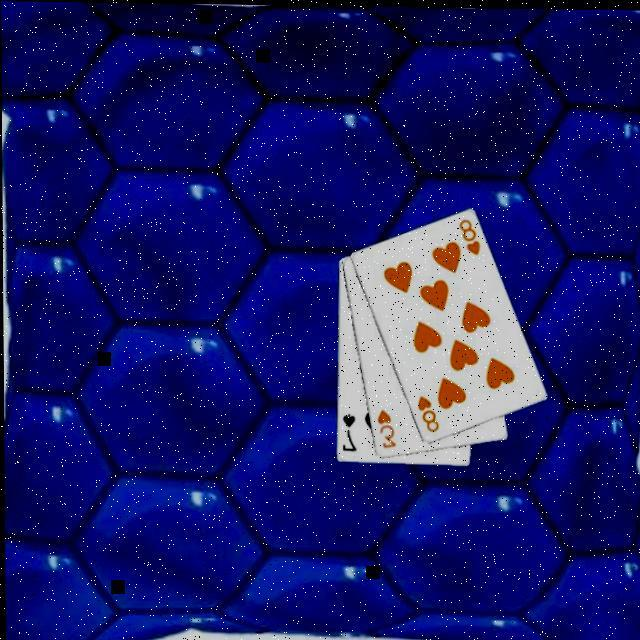3H: (372, 407, 396, 451)
7S: (336, 410, 356, 454)
8H: (412, 392, 439, 434), (454, 216, 481, 258)
